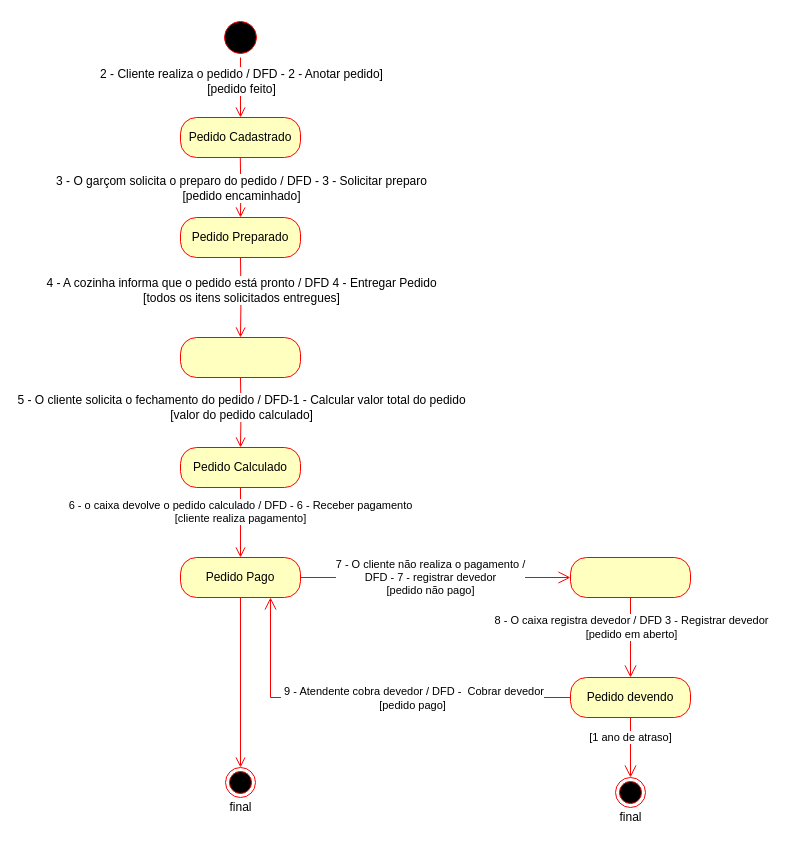
The diagram is 785 pixels wide and 845 high, and some of its shapes have lost their labels. The shapes that lost their labels are listed below. From the top down, each one's box as (x1, y1, x2, y2) in pixels, then its label:
(180, 336, 300, 378): Pedido Entregue
(570, 556, 690, 598): Pedido não pago
